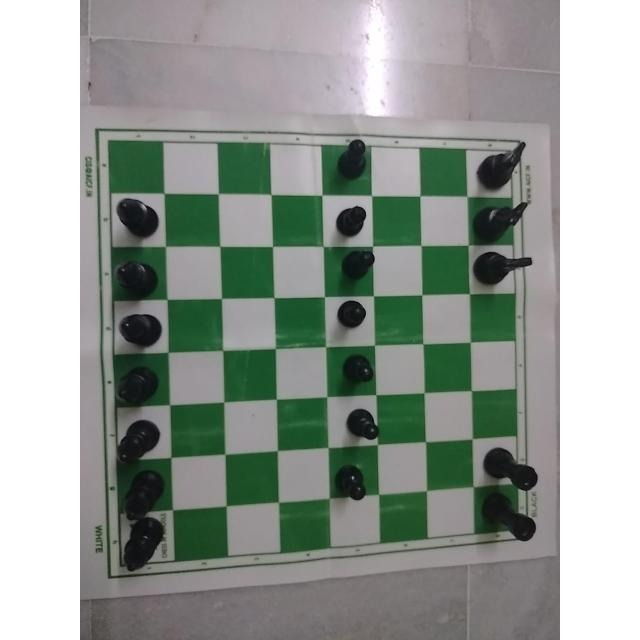black-bishop: (97, 408, 170, 464), (112, 523, 176, 577), (108, 468, 174, 519), (111, 357, 167, 411), (107, 253, 163, 301), (109, 308, 164, 356), (107, 195, 158, 241)
black-knight: (467, 129, 532, 195), (466, 195, 544, 247), (466, 246, 546, 289)
black-pawn: (329, 398, 385, 450), (327, 130, 374, 188), (335, 341, 383, 395), (333, 458, 377, 516), (327, 296, 379, 343), (323, 193, 373, 239), (338, 241, 380, 287)
black-rook: (477, 497, 539, 546), (482, 446, 540, 493)
